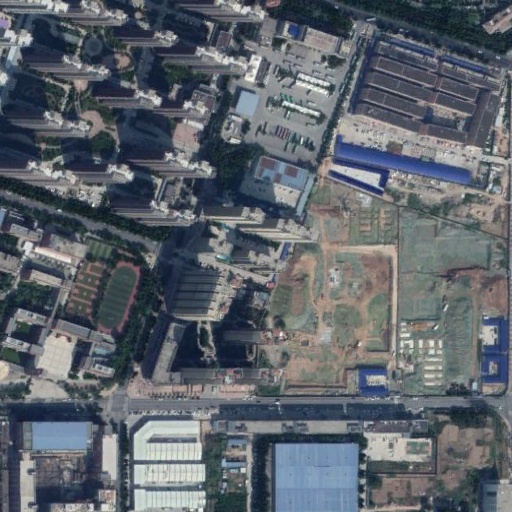cw: (258, 176, 509, 401)
